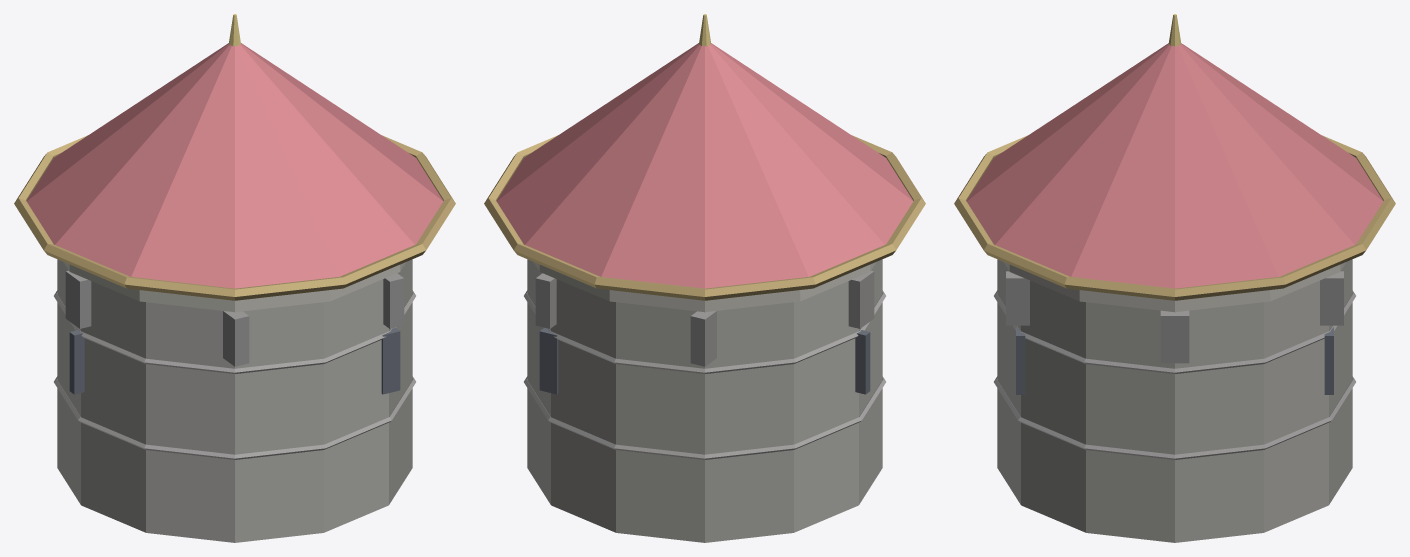
The model's file is torre_esquina_baja.glb.
3 renders of one model, left to right at view 1: azimuth 30°, elevation 25°; view 2: azimuth 150°, elevation 25°; view 3: azimuth 270°, elevation 25°, orthographic.
Visible parts, largest first — view 1: torre_esquina_baja; view 2: torre_esquina_baja; view 3: torre_esquina_baja.
Boxes of the visible parts, x1,y1,x2,y2 form: torre_esquina_baja: (14, 14, 455, 542); torre_esquina_baja: (484, 14, 925, 542); torre_esquina_baja: (954, 14, 1395, 542).
Bounding box in the file's own units: 3.73 × 4.22 × 3.73.
